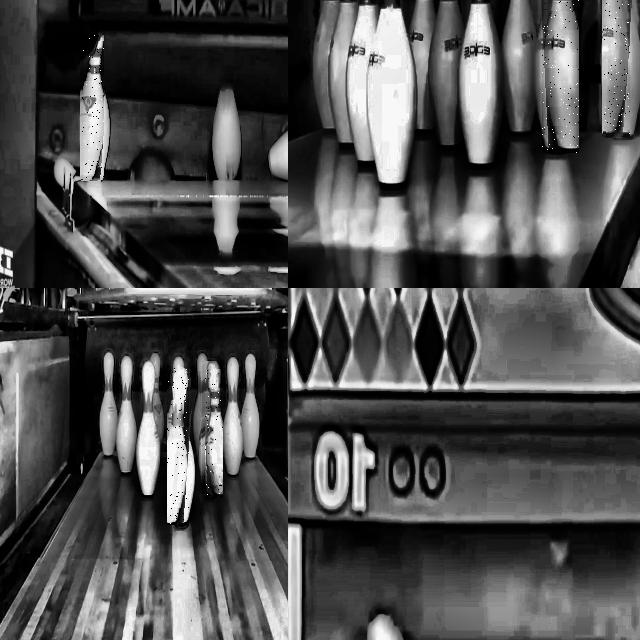bowling-pins: (367, 0, 416, 187), (458, 0, 503, 168), (542, 0, 579, 153), (428, 0, 464, 149), (346, 0, 378, 165), (502, 0, 536, 135), (328, 0, 356, 146), (408, 0, 436, 133), (603, 0, 629, 135), (167, 366, 189, 525), (312, 0, 338, 130), (136, 360, 160, 497), (82, 36, 104, 180), (222, 357, 243, 475), (116, 355, 137, 473), (204, 361, 222, 496), (241, 353, 260, 458), (99, 352, 117, 456), (193, 352, 207, 454), (150, 352, 164, 446)
